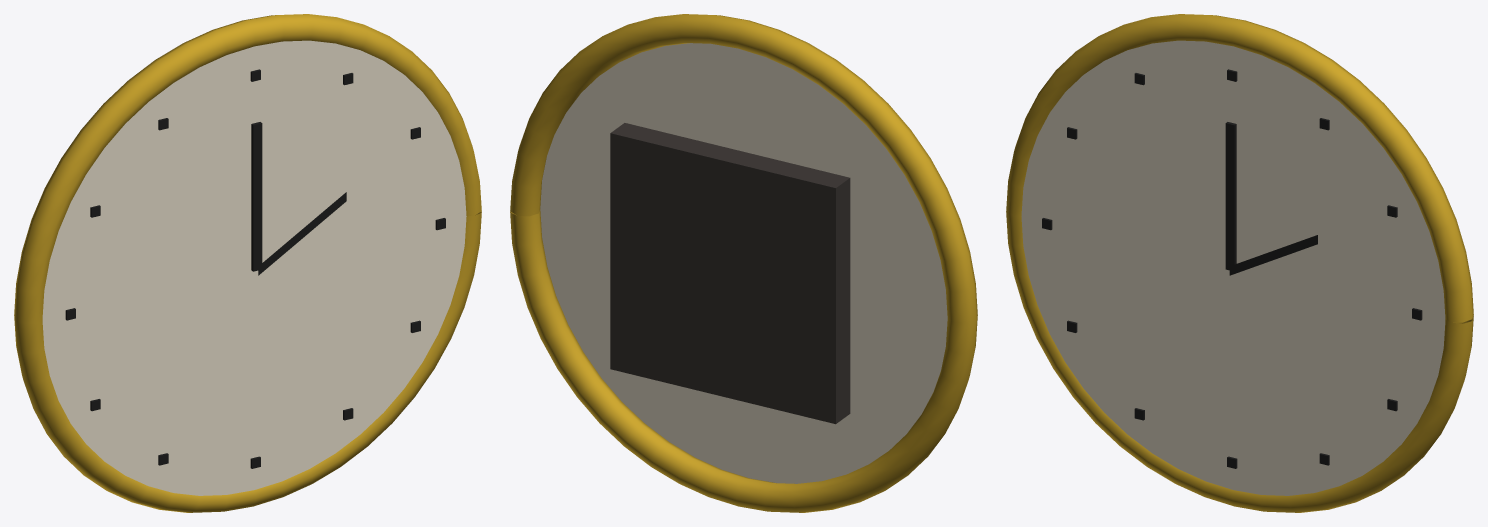
Rendered from FET-CLK-std.glb.
The picture shows the model from 3 angles, left to right: view 1: azimuth 30°, elevation 25°; view 2: azimuth 150°, elevation 25°; view 3: azimuth 330°, elevation 25°; orthographic projection.
Visible parts, largest first — view 1: FET-CLK-std; view 2: FET-CLK-std; view 3: FET-CLK-std.
Part boxes in pixels (x1,y1,x2,y2): FET-CLK-std: (14,14,481,512); FET-CLK-std: (510,14,977,512); FET-CLK-std: (1006,14,1473,512).
Size of the model in its own units: 0.412 by 0.412 by 0.048.
